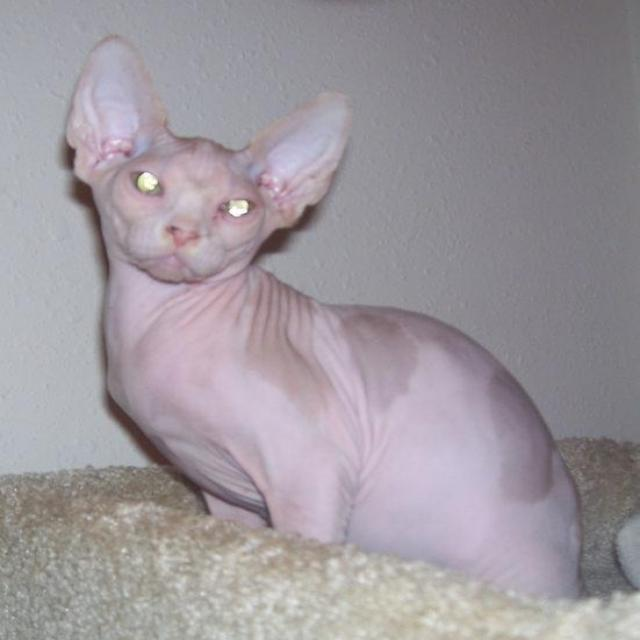Sphynx: (63, 35, 354, 292)
